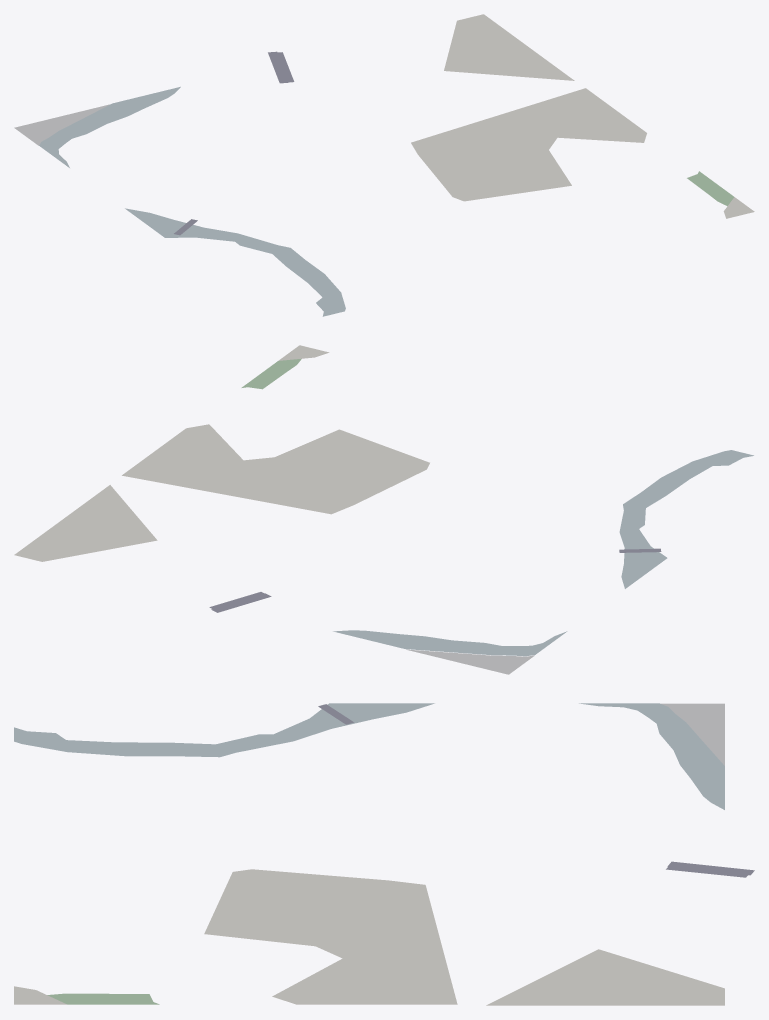
The model's file is 102_110_mid.glb.
The picture shows the model from 3 angles, top to bottom: view 1: azimuth 30°, elevation 25°; view 2: azimuth 150°, elevation 25°; view 3: azimuth 270°, elevation 25°; orthographic projection. The views are drawn at different scales.
Size of the model in its own units: 500 by 4.43 by 521.
